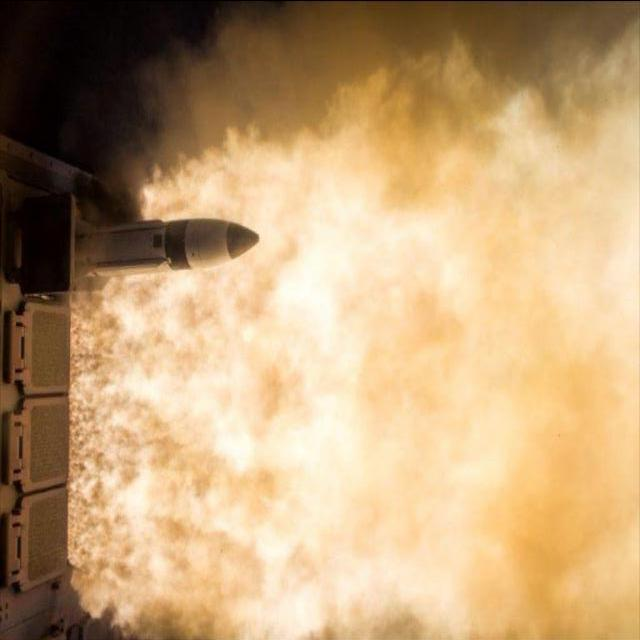missile: (40, 218, 265, 280)
